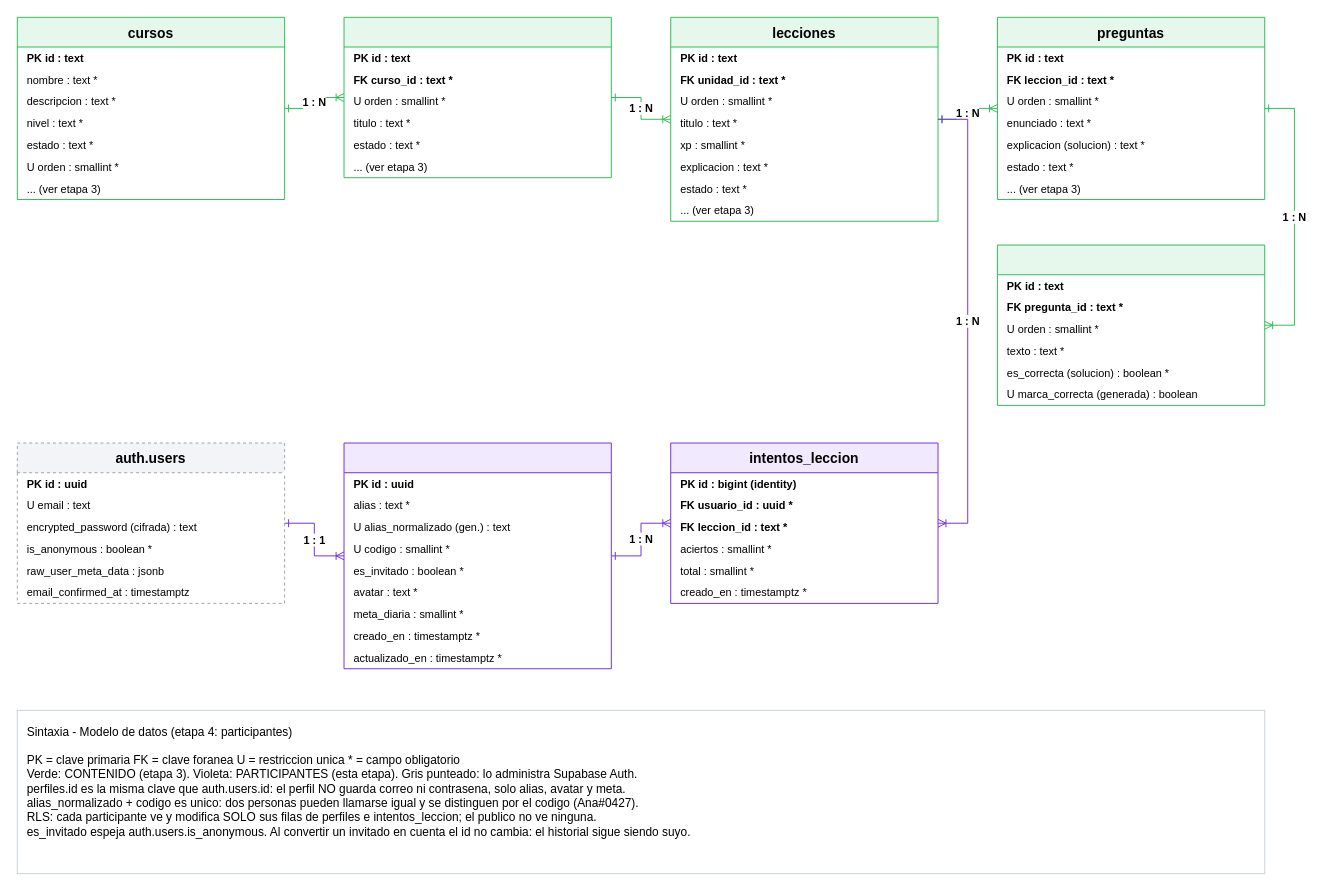
Image size: 1324x891. Some labels were removed from this diagram. The shapes that lost their labels are listed below. From the top down, each one's box as (x1, y1, x2, y2) in pixels, then its label:
(343, 16, 611, 178): unidades
(996, 244, 1265, 405): opciones
(343, 442, 611, 669): perfiles
